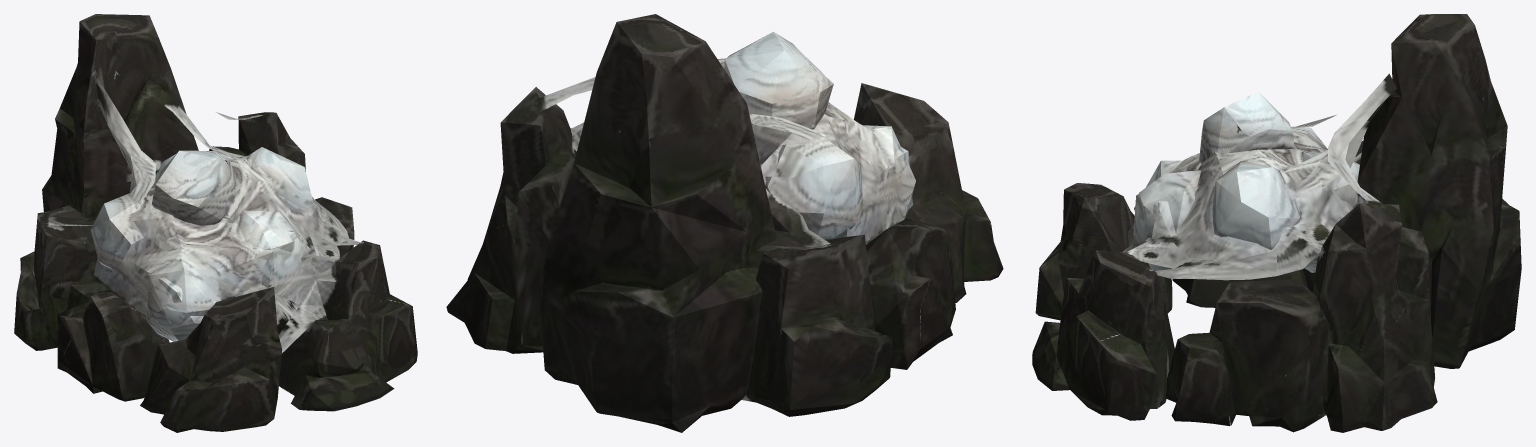
Rendered from egg_sacs.glb.
3 views of the same model, side by side, from view 1: azimuth 30°, elevation 25°; view 2: azimuth 150°, elevation 25°; view 3: azimuth 270°, elevation 25° (orthographic). The views are drawn at different scales.
Visible parts, largest first — view 1: Mesh; view 2: Mesh; view 3: Mesh.
Part boxes in pixels (box(x1,y1,x2,y2)): Mesh: box(14, 14, 417, 432); Mesh: box(446, 14, 1003, 432); Mesh: box(1032, 14, 1521, 432).
Bounding box in the file's own units: 0.8597 × 0.7038 × 1.
1 material, 1 textured.
